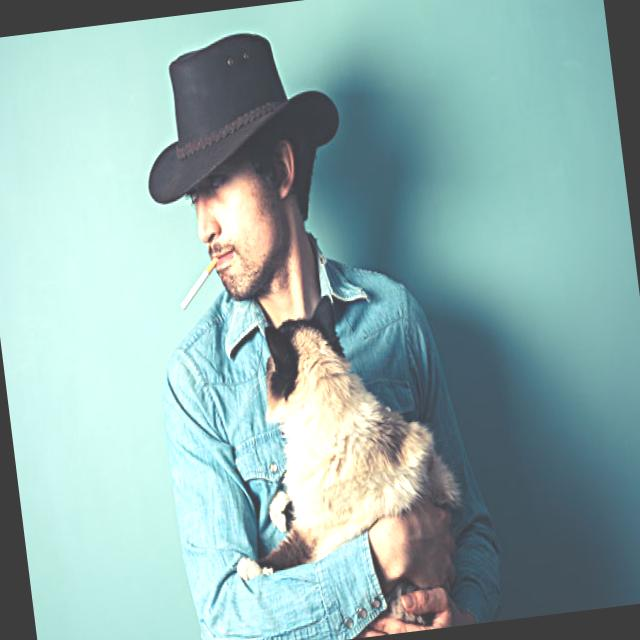smoke: (172, 248, 227, 318)
